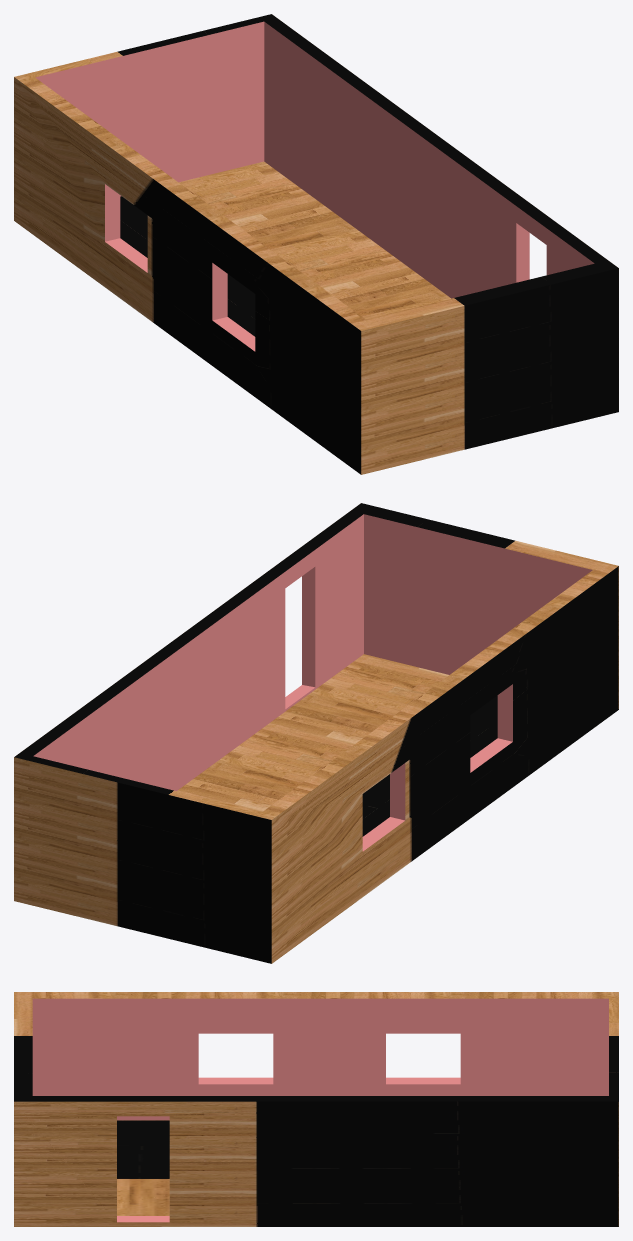
Rendered from floor and walls 02.FBX.
3 views of the same model, one above another, from view 1: azimuth 30°, elevation 25°; view 2: azimuth 150°, elevation 25°; view 3: azimuth 270°, elevation 25° (orthographic). The views are drawn at different scales.
Visible parts, largest first — view 1: Box002; view 2: Box002; view 3: Box002.
Part boxes in pixels (x1,y1,x2,y2): Box002: (14, 14, 618, 474); Box002: (14, 503, 618, 963); Box002: (14, 992, 618, 1226).
Bounding box in the file's own units: 177 × 94.49 × 413.
2 materials, 1 textured.
